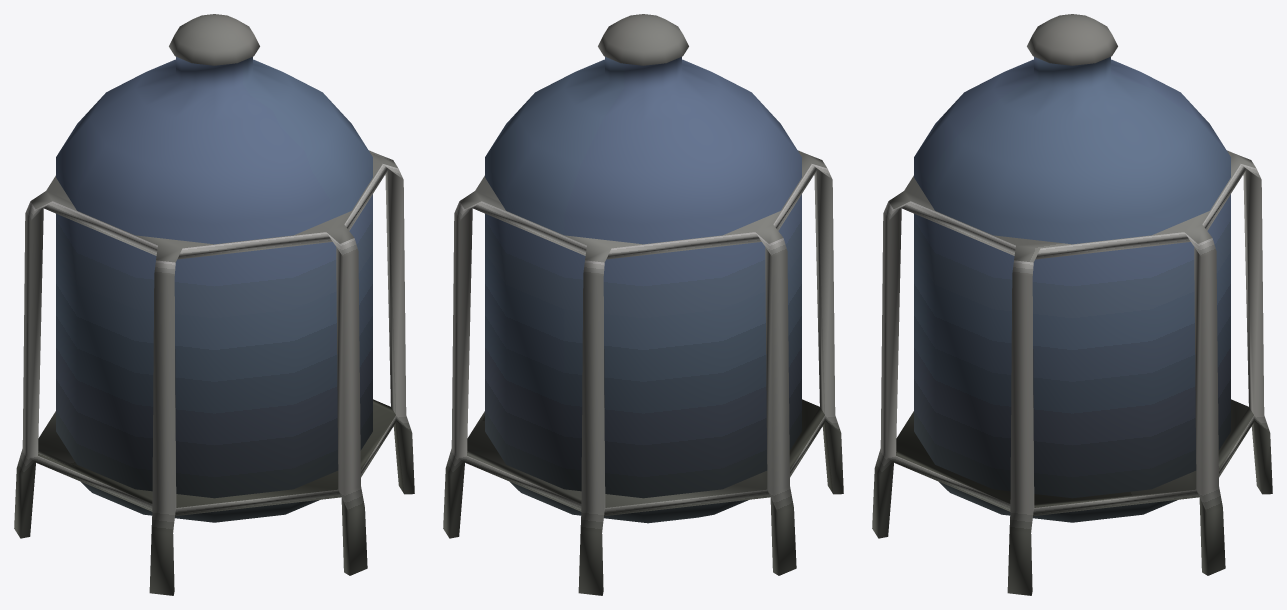
File: DL_Obj_Level3_MachineryTank3.fbx
3 views of the same model, side by side, from view 1: azimuth 30°, elevation 25°; view 2: azimuth 150°, elevation 25°; view 3: azimuth 270°, elevation 25° (orthographic).
Parts seen in each view (by area): view 1: Level3_MachineryTank3; view 2: Level3_MachineryTank3; view 3: Level3_MachineryTank3.
Boxes of the visible parts, bbox=[...] form: Level3_MachineryTank3: bbox=[14, 14, 414, 595]; Level3_MachineryTank3: bbox=[443, 14, 843, 595]; Level3_MachineryTank3: bbox=[872, 14, 1272, 595].
Size of the model in its own units: 253 by 342 by 253.
